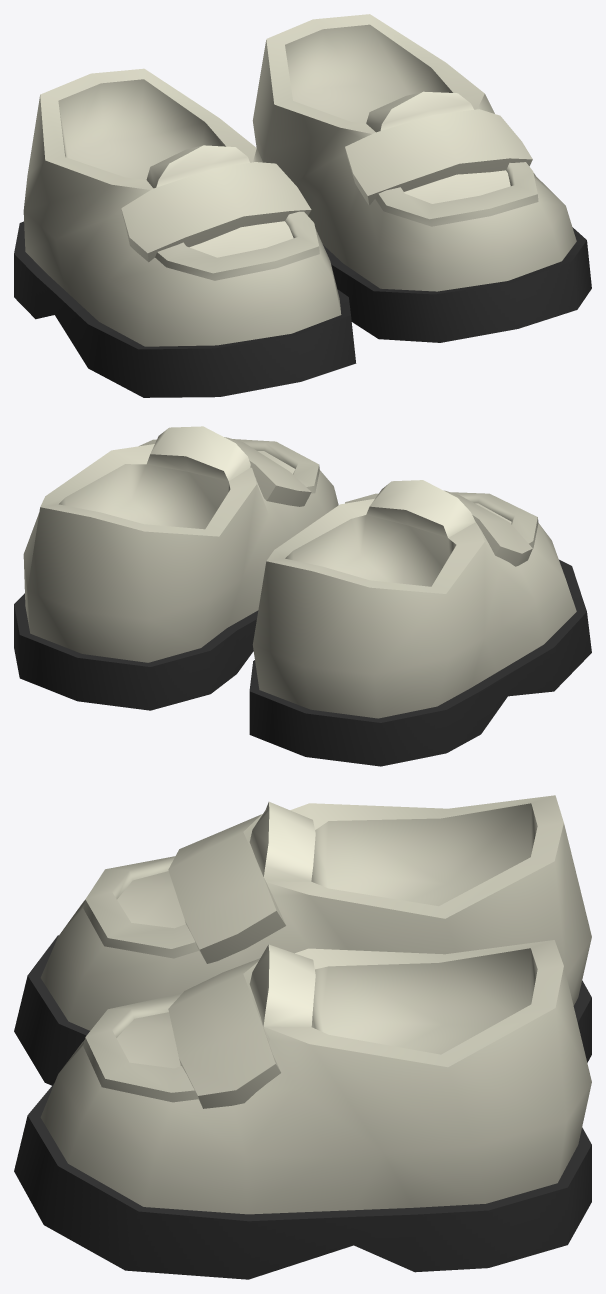
File: Shoes_11.fbx
3 views of the same model, one above another, from view 1: azimuth 30°, elevation 25°; view 2: azimuth 150°, elevation 25°; view 3: azimuth 270°, elevation 25° (orthographic). The views are drawn at different scales.
Parts seen in each view (by area): view 1: Shoes_11; view 2: Shoes_11; view 3: Shoes_11.
Boxes of the visible parts, x1,y1,x2,y2 form: Shoes_11: (14, 14, 591, 397); Shoes_11: (14, 426, 591, 766); Shoes_11: (14, 795, 591, 1279).
Size of the model in its own units: 41.82 by 16.06 by 33.98.
